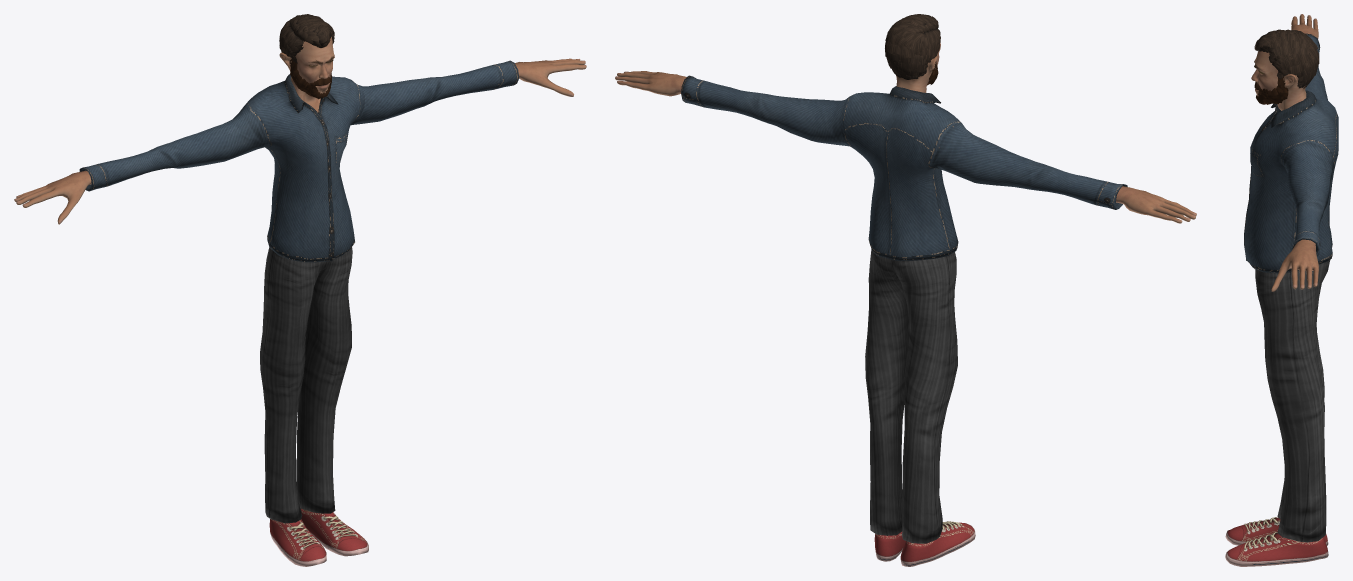
File: Sean.obj
3 renders of one model, left to right at view 1: azimuth 30°, elevation 25°; view 2: azimuth 150°, elevation 25°; view 3: azimuth 270°, elevation 25°, orthographic. The views are drawn at different scales.
Visible parts, largest first — view 1: Tops, Bottoms, Body, Shoes, Hair; view 2: Tops, Bottoms, Body, Hair, Shoes; view 3: Bottoms, Tops, Shoes, Body, Hair, Beards.
Boxes of the visible parts, x1=… form: Tops: x1=79, y1=60, x2=519, y2=262; Bottoms: x1=260, y1=247, x2=352, y2=523; Body: x1=14, y1=36, x2=586, y2=511; Shoes: x1=269, y1=508, x2=368, y2=566; Hair: x1=279, y1=14, x2=334, y2=64; Tops: x1=681, y1=75, x2=1127, y2=261; Bottoms: x1=865, y1=249, x2=957, y2=543; Body: x1=615, y1=32, x2=1196, y2=544; Hair: x1=885, y1=14, x2=940, y2=79; Shoes: x1=874, y1=521, x2=975, y2=566; Bottoms: x1=1255, y1=260, x2=1330, y2=542; Tops: x1=1244, y1=33, x2=1338, y2=273; Shoes: x1=1225, y1=517, x2=1328, y2=566; Body: x1=1251, y1=14, x2=1318, y2=291; Hair: x1=1254, y1=29, x2=1319, y2=88; Beards: x1=1256, y1=77, x2=1288, y2=104.
Size of the model in its own units: 230 by 201 by 40.03.
Materials: 7 (7 with a texture image).
